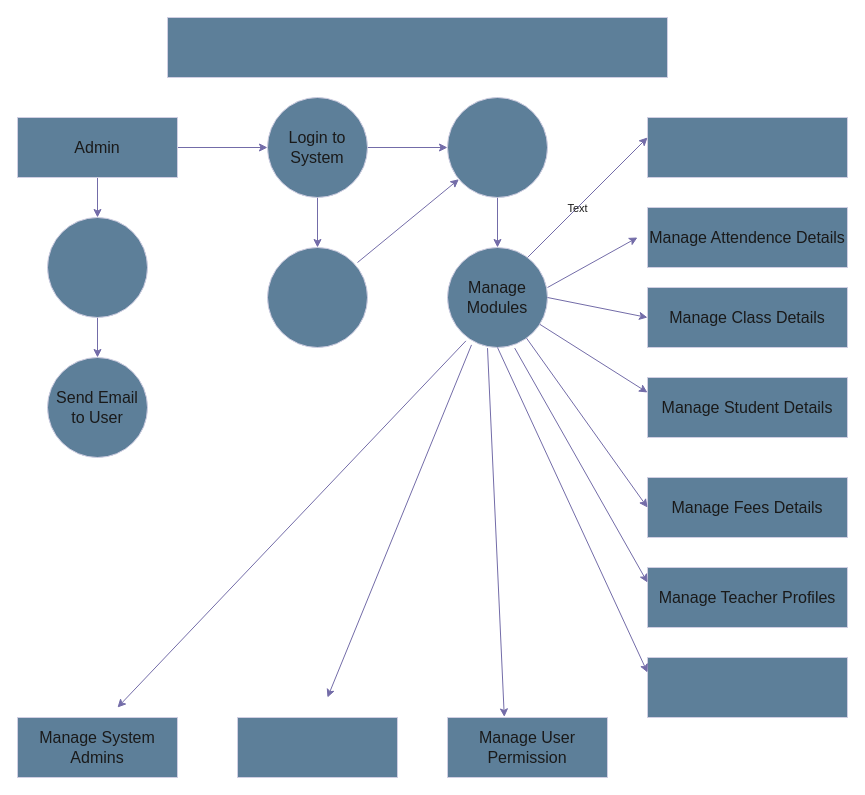
Some shapes in this 865 by 795 pixel diagram are drawn without their labels. The shapes that lost their labels are listed below. From the top down, each one's centre as x and y in pixels, then its label:
At (x=417, y=47): "Student Information System".
At (x=497, y=147): "Checks Roles of Access".
At (x=747, y=147): "Manage Timetable Details".
At (x=97, y=267): "Forgot Password".
At (x=317, y=297): "Check Credentials".
At (x=317, y=747): "Manage Roles of User".
